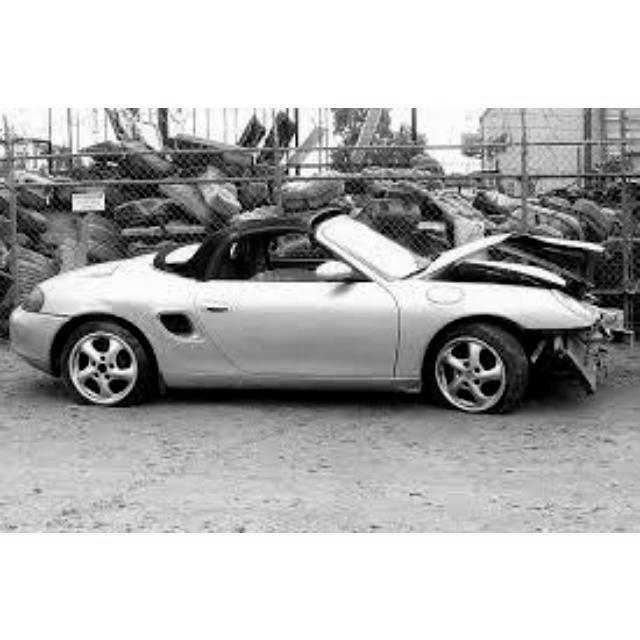Headlight-damage: (552, 273, 614, 319)
bonnet-dent: (438, 234, 600, 275)
